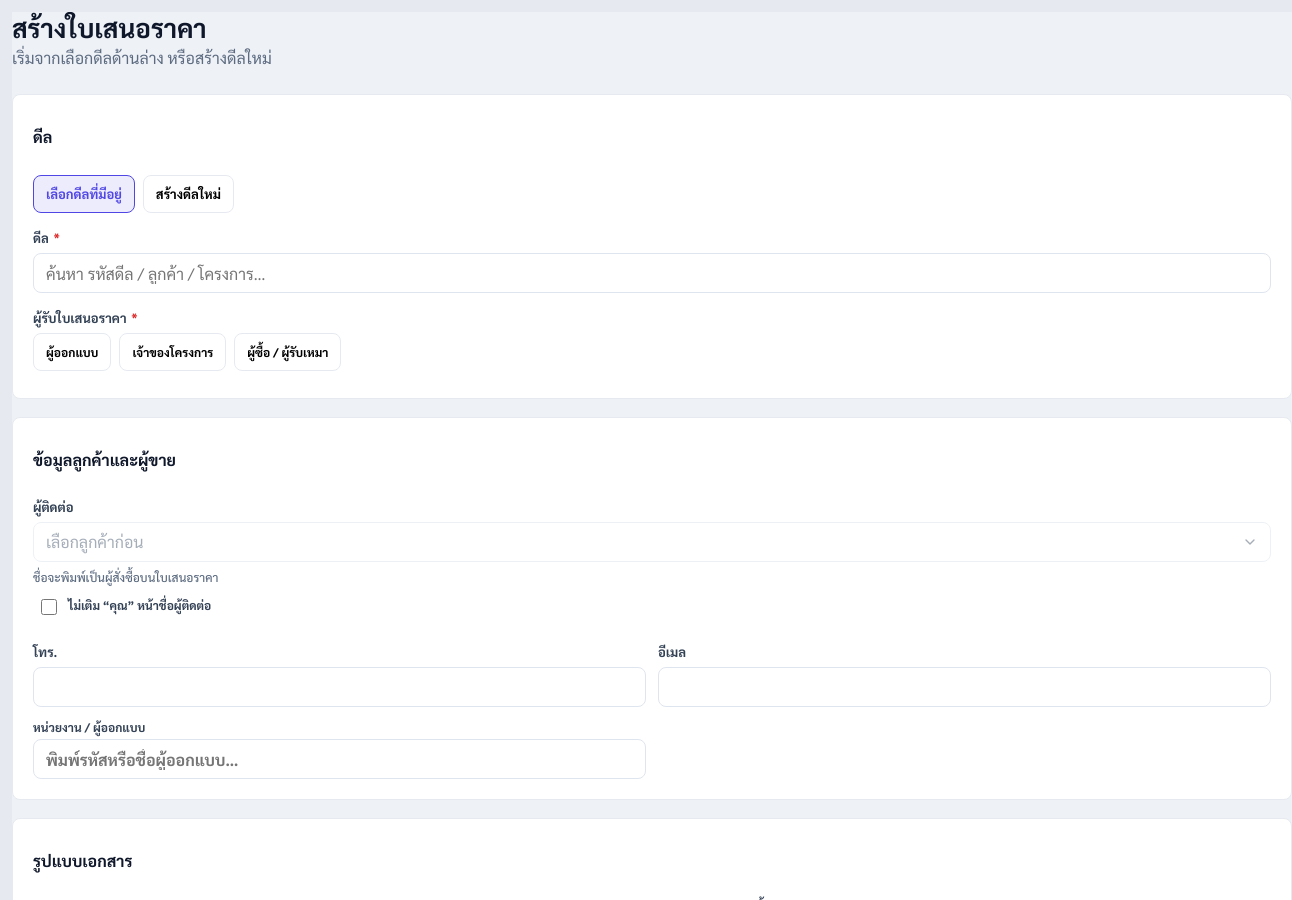
Test case: ผู้ติดต่อ — the customer phone and email, directly under the picker, in both forms › a quotation that creates its deal inline: the same two inputs, in the same place
Click the button "สร้างดีลใหม่". click: [188, 194]
box: [143,175,234,213]
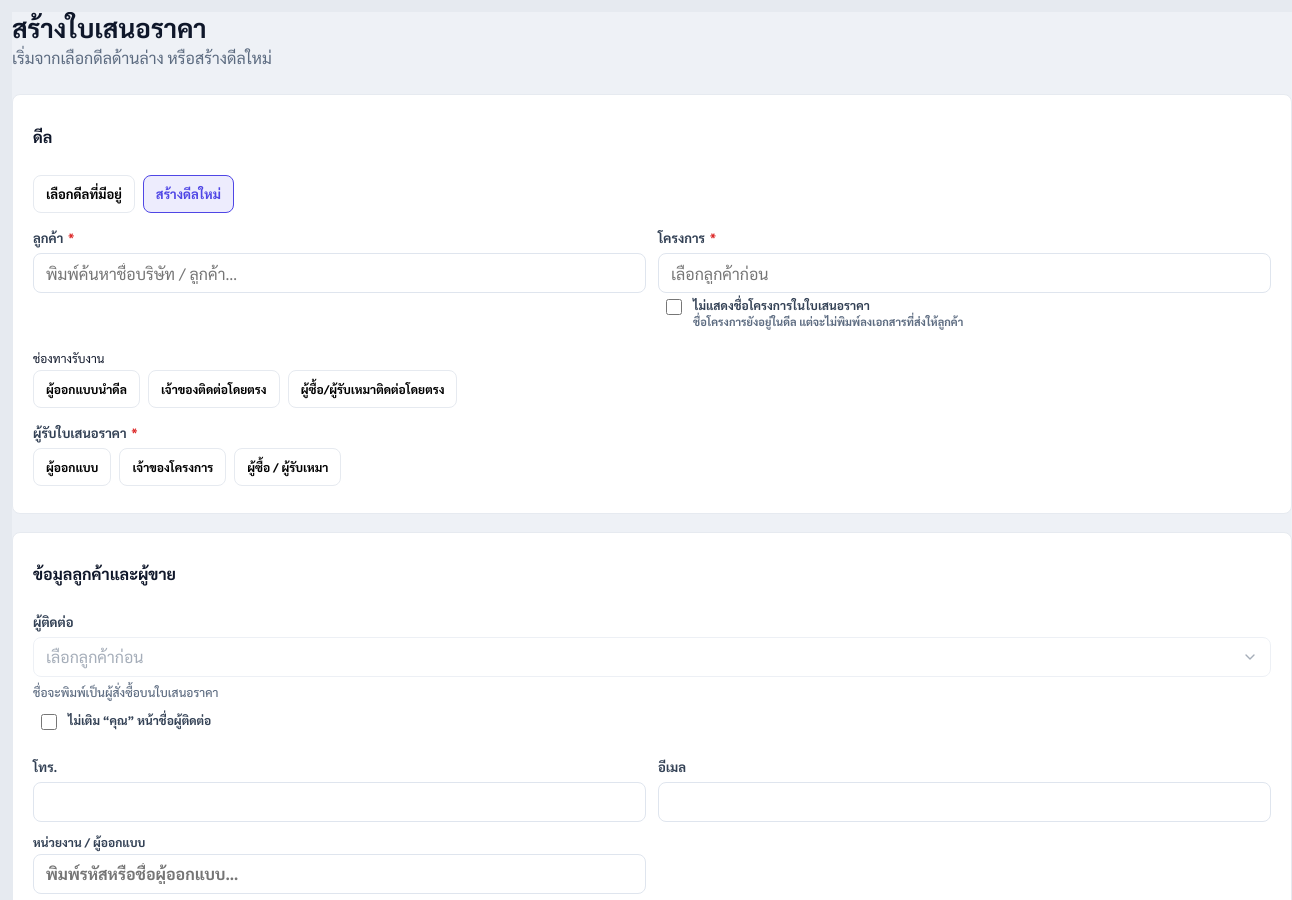
Now the field labelled "ลูกค้า *" is shown, box [33,253,646,293]
